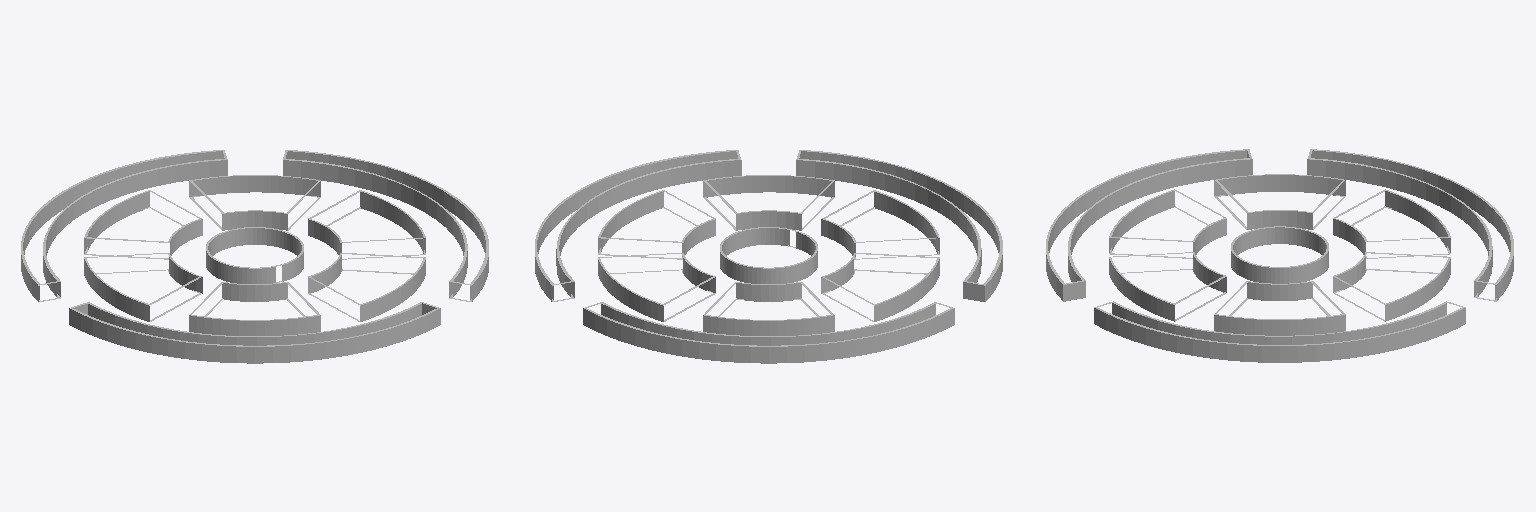
The model's file is Edges.SGarden.obj.
3 views of the same model, side by side, from view 1: azimuth 30°, elevation 25°; view 2: azimuth 150°, elevation 25°; view 3: azimuth 270°, elevation 25° (orthographic).
Size of the model in its own units: 18.92 by 0.75 by 19.